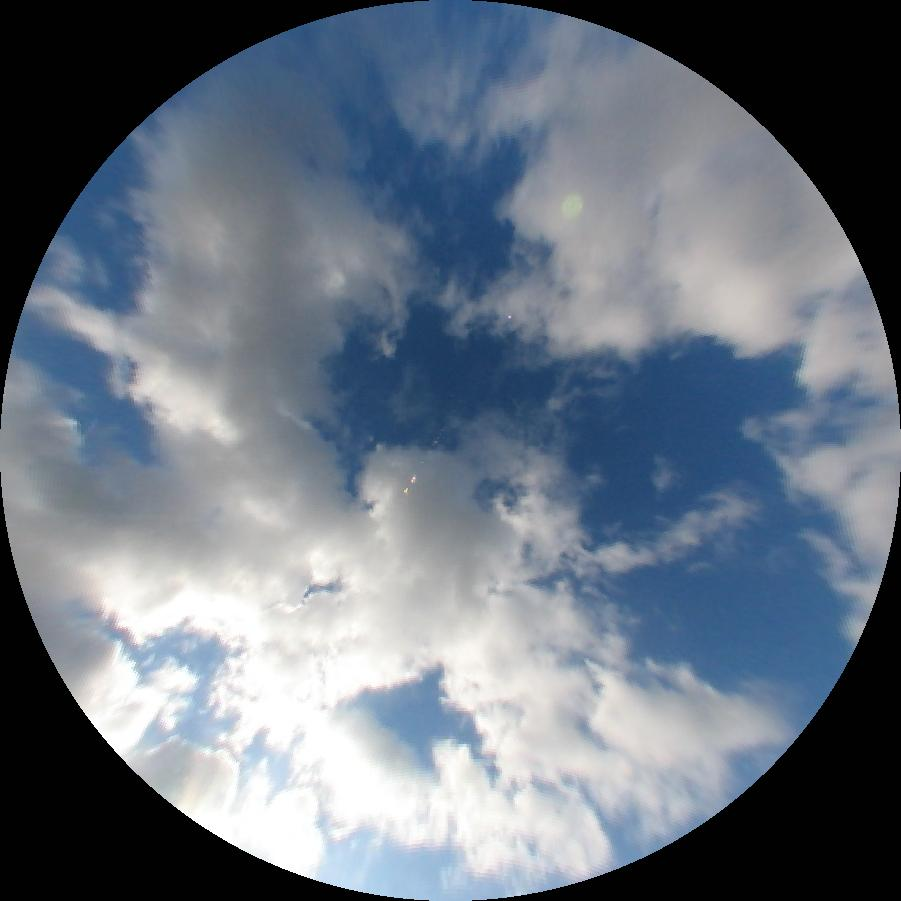contrail maybe: (81, 418, 99, 436)
